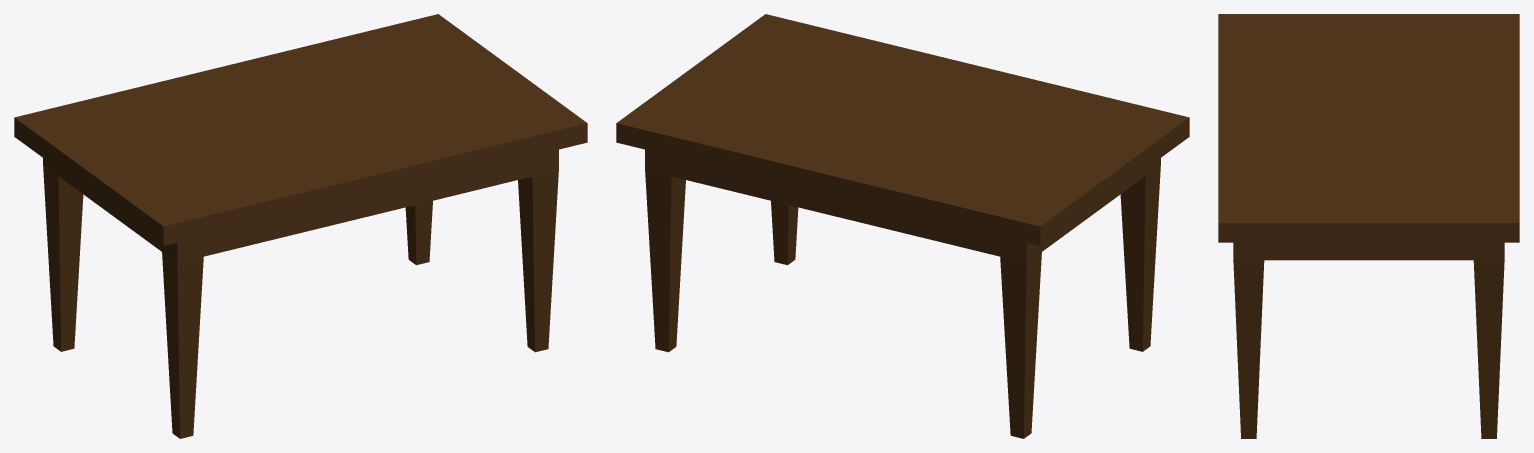
The model's file is table_generic.fbx.
The picture shows the model from 3 angles, left to right: view 1: azimuth 30°, elevation 25°; view 2: azimuth 150°, elevation 25°; view 3: azimuth 270°, elevation 25°; orthographic projection.
Parts seen in each view (by area): view 1: Table; view 2: Table; view 3: Table.
Part boxes in pixels (x1,y1,x2,y2): Table: (14,14,587,438); Table: (616,14,1189,438); Table: (1218,14,1519,438).
Bounding box in the file's own units: 1600 × 820 × 975.
